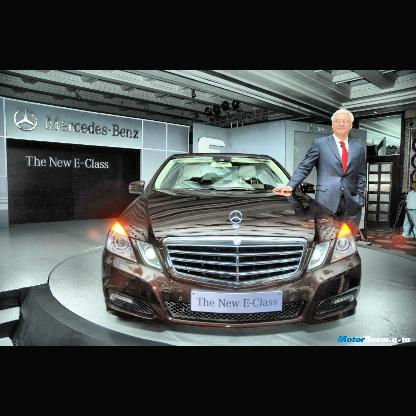Mercedes-Benz E-Class Sedan 2012: (99, 150, 361, 335)
